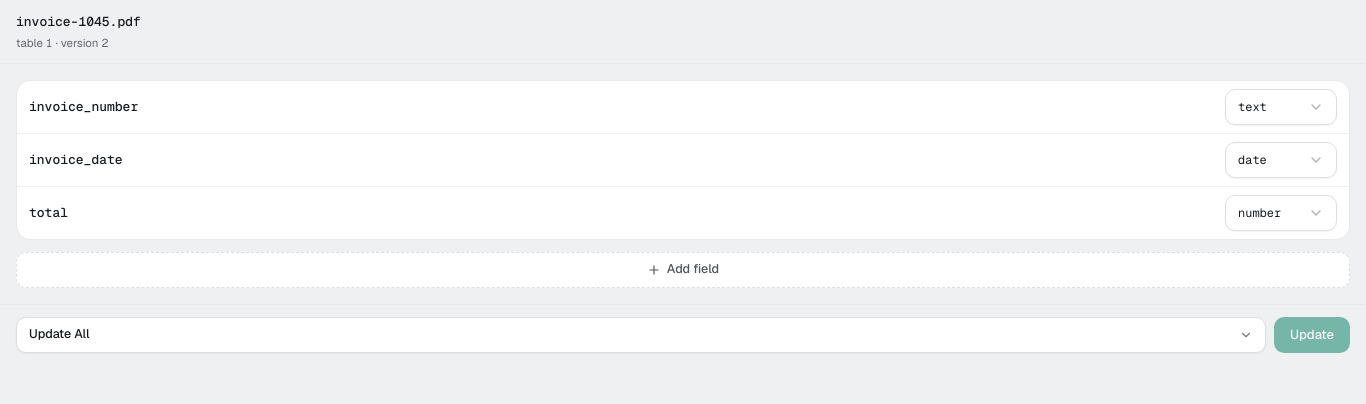
Test: SchemaEditor › will not save a currency column that does not say which currency
Click the dropdown named "Type of total" at x=1281, y=213, box x1=1225 y1=195 x2=1337 y2=231
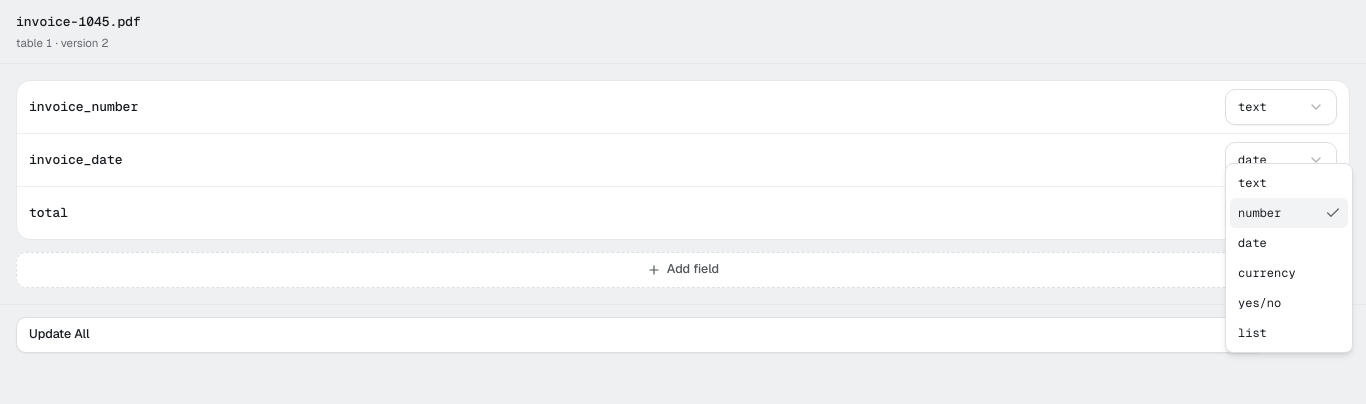
Click the option "currency" at x=1267, y=273, box x1=1238 y1=265 x2=1296 y2=281
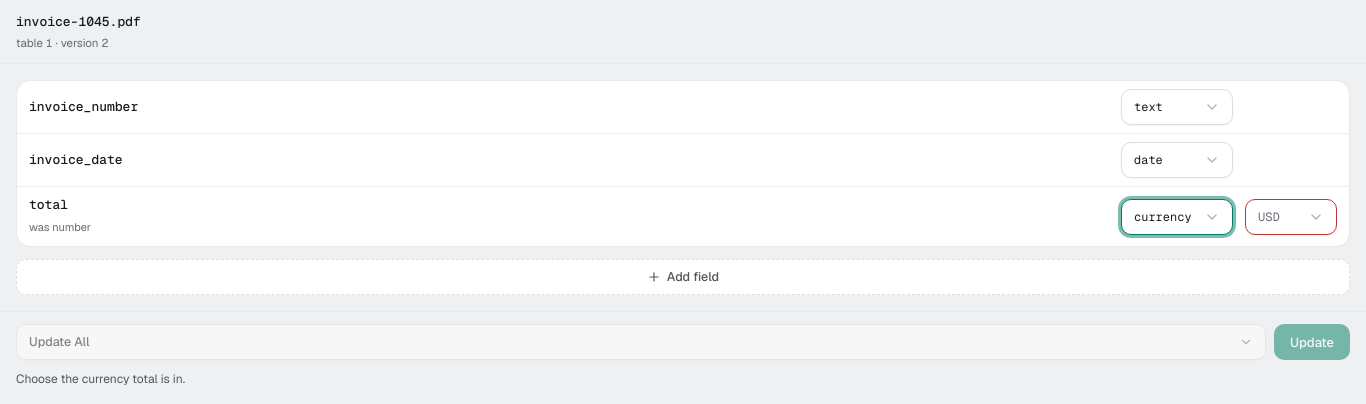
Expected: the button with aria-label "Update — Choose a currency for total" is disabled, x1=1274 y1=324 x2=1350 y2=360
Expected: the button with aria-label "Update All — Choose a currency for total" is disabled, x1=16 y1=324 x2=1266 y2=360
Expected: the text "Choose the currency total is in." is shown, x1=16 y1=371 x2=185 y2=387
Click the dropdown named "Currency of total" at x=1291, y=216, box x1=1245 y1=198 x2=1337 y2=234
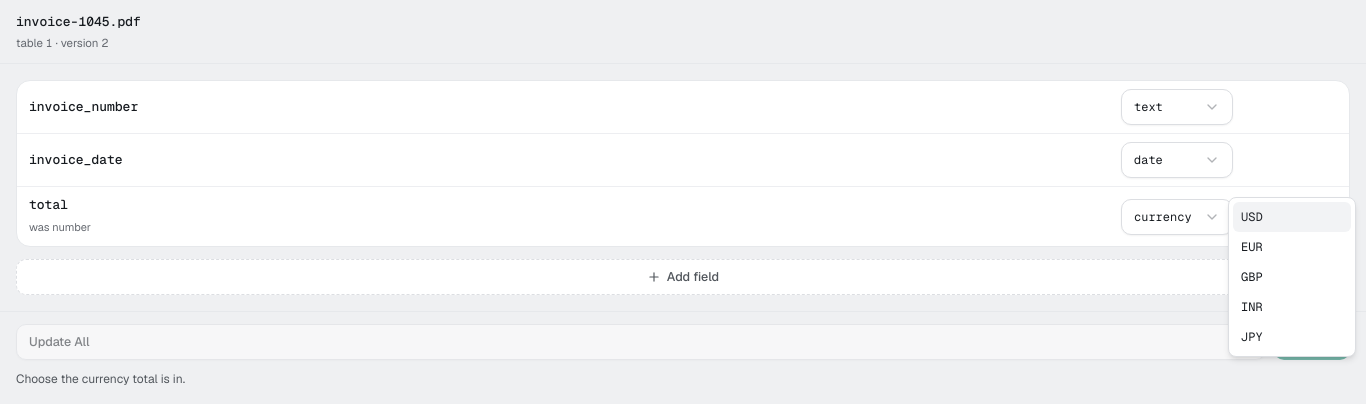
Click the option "GBP" at x=1252, y=276, box x1=1241 y1=268 x2=1263 y2=284
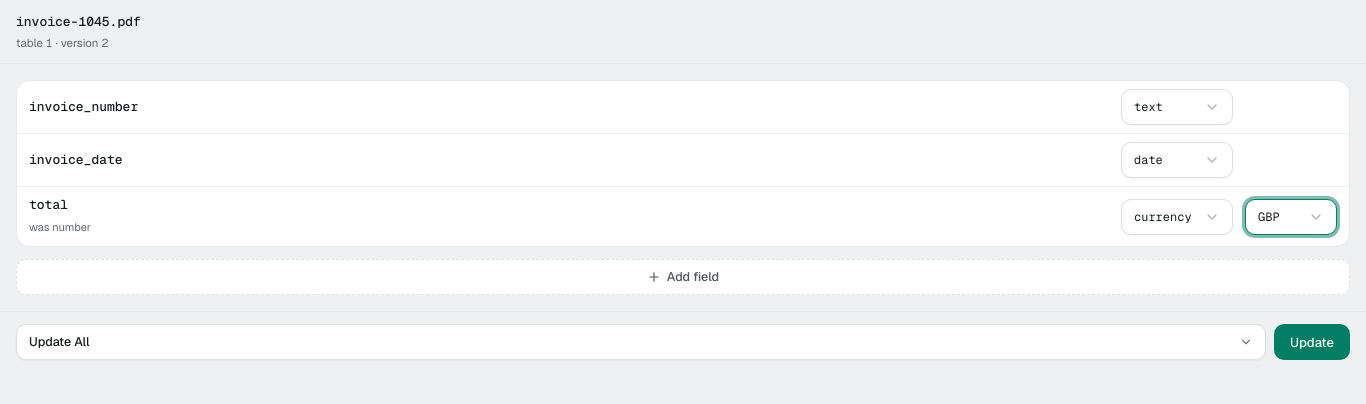
Expected: the button "Update" is enabled, x1=1274 y1=324 x2=1350 y2=360
Expected: the text "Choose the currency" is gone
